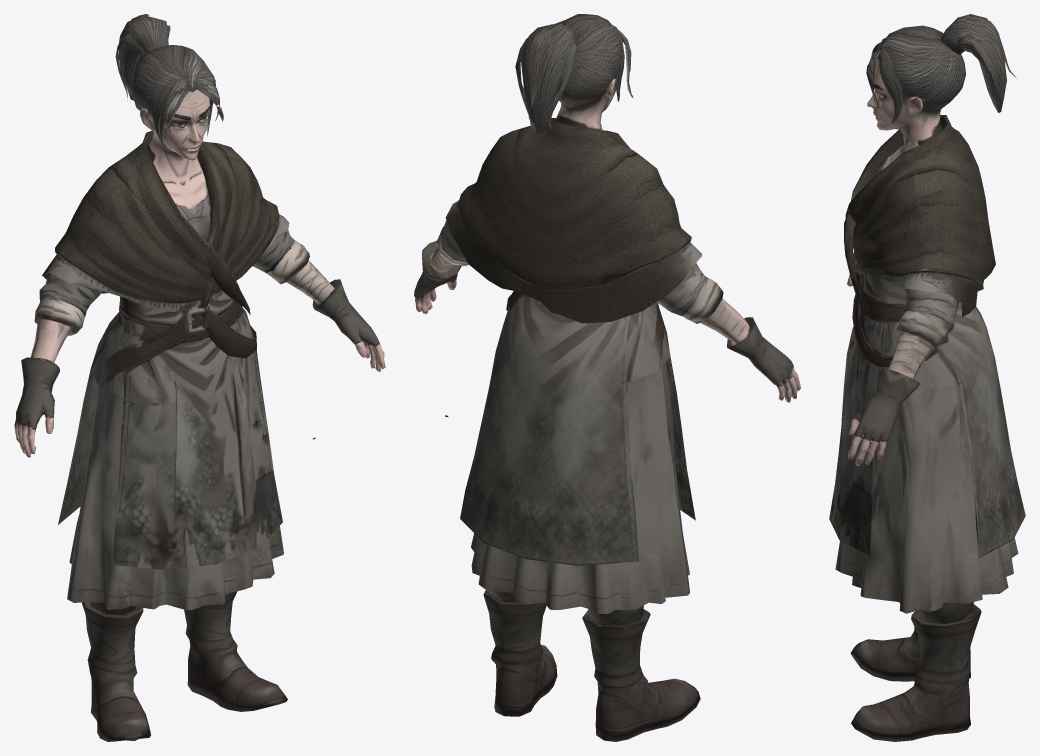
File: Meshy_AI_The_Weathered_Matriar_0914005151_texture.obj
3 renders of one model, left to right at view 1: azimuth 30°, elevation 25°; view 2: azimuth 150°, elevation 25°; view 3: azimuth 270°, elevation 25°, orthographic. The views are drawn at different scales.
Parts seen in each view (by area): view 1: Meshy_AI_The_Weathered_Matriar_0914005151_texture; view 2: Meshy_AI_The_Weathered_Matriar_0914005151_texture; view 3: Meshy_AI_The_Weathered_Matriar_0914005151_texture.
Boxes of the visible parts, <box> form: Meshy_AI_The_Weathered_Matriar_0914005151_texture: <box>14,14,385,741</box>; Meshy_AI_The_Weathered_Matriar_0914005151_texture: <box>414,14,800,741</box>; Meshy_AI_The_Weathered_Matriar_0914005151_texture: <box>829,14,1025,741</box>.
Bounding box in the file's own units: 0.5586 × 1 × 0.2607.
Materials: 1 (1 with a texture image).
